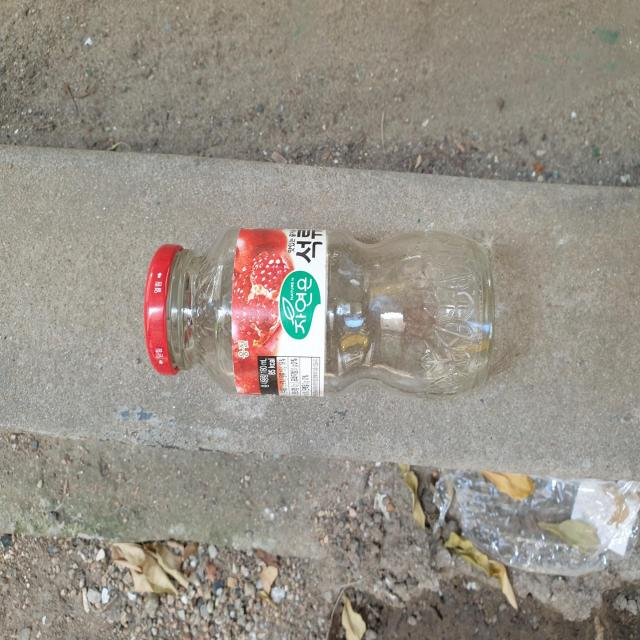glass: (145, 228, 495, 396)
